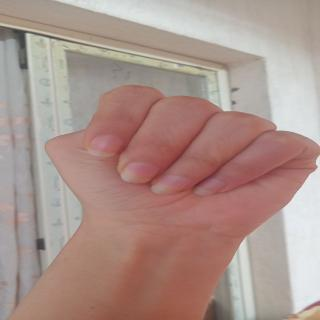SAD: (37, 84, 320, 225)
